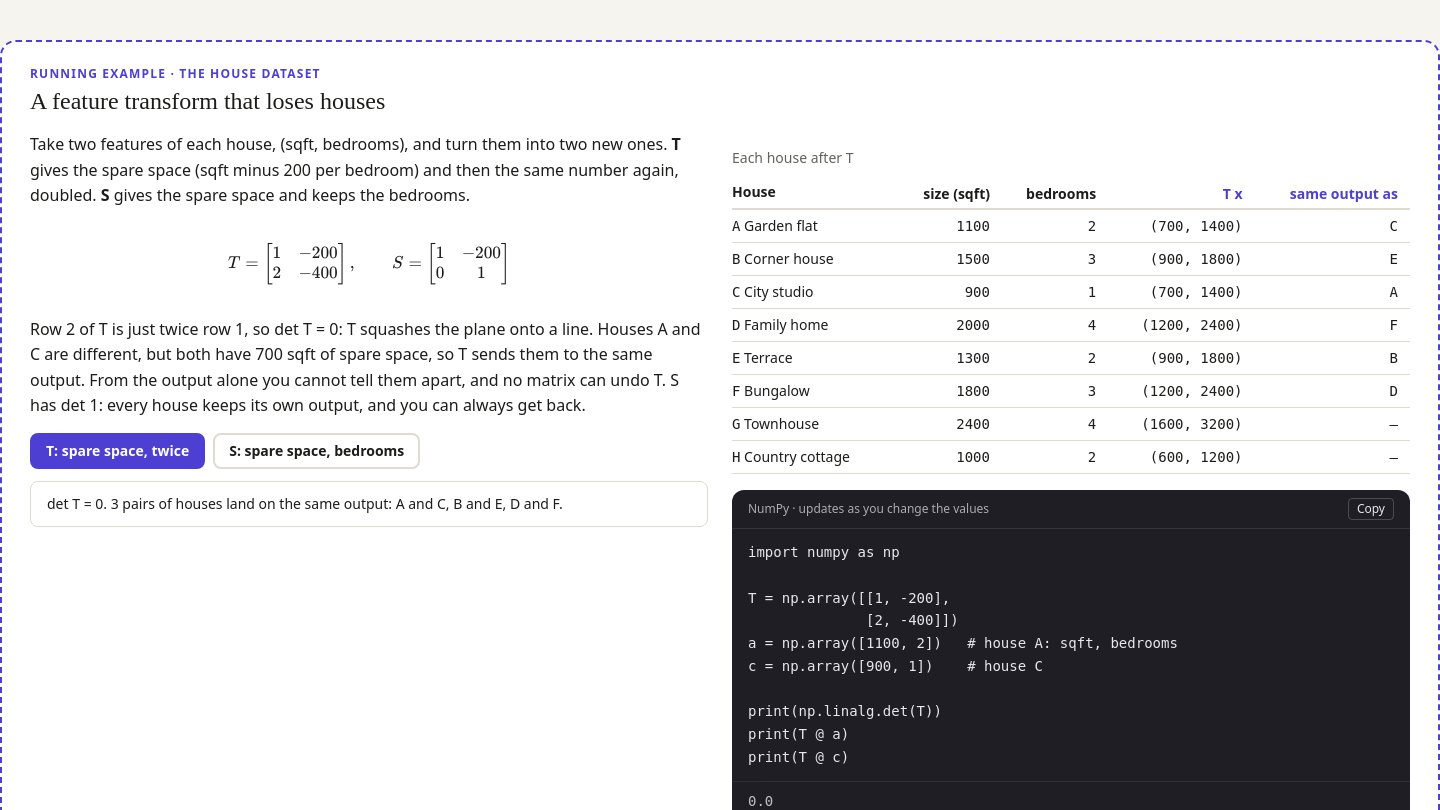
Scenario: running example: a det-0 feature transform › the buttons switch the transform, table and snippet
Check: the element "A feature transform that loses houses" shows "both have 700 sqft of spare space", box x1=30 y1=318 x2=701 y2=416
Check: the text with test id "house-det" reads "det T = 0. 3 pairs of houses land on the same output: A and C, B and E, D and F.", box x1=47 y1=494 x2=563 y2=513
Click the button "S: spare space, bedrooms".
click(317, 451)  # box x1=213 y1=433 x2=420 y2=469
(page scrolled)
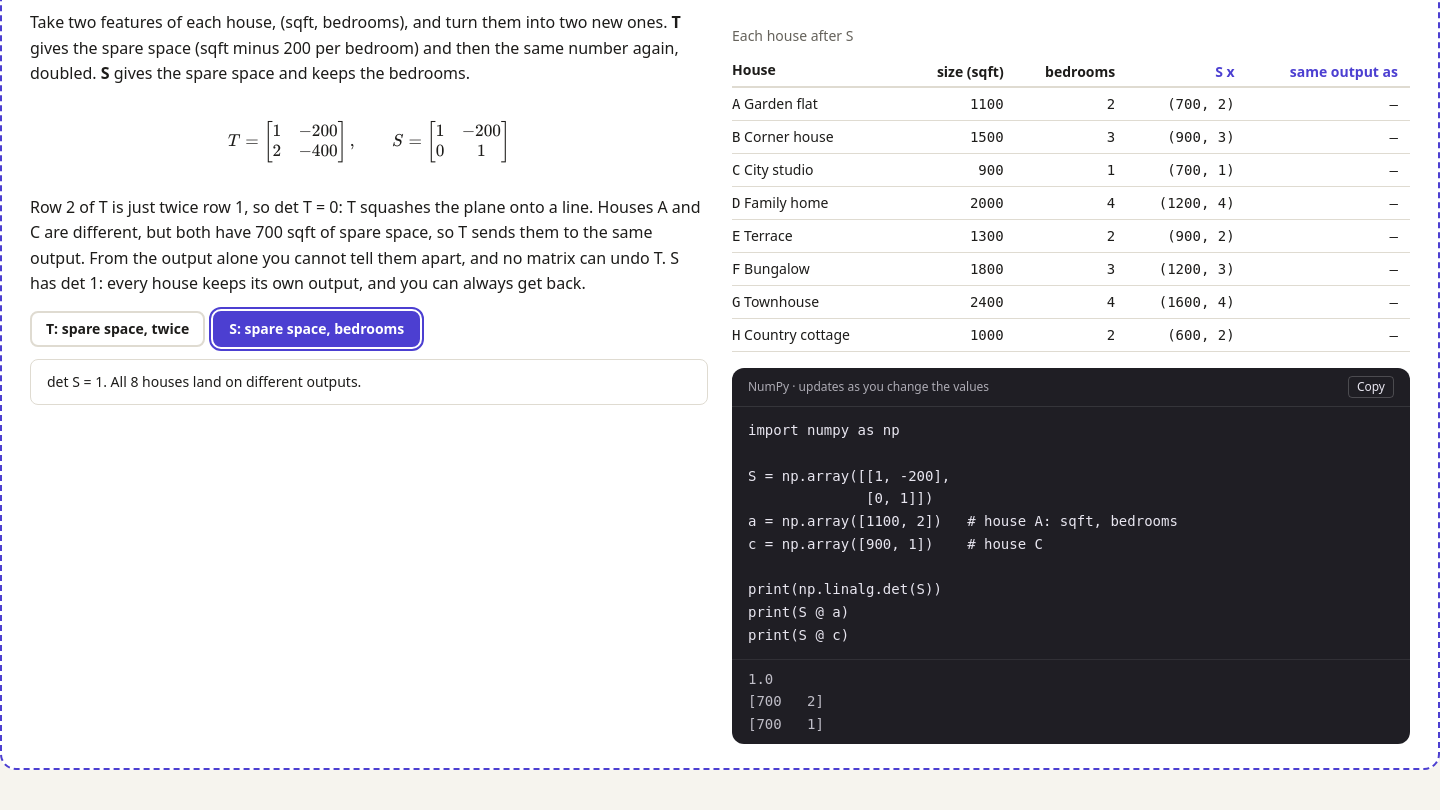
Check: the text with test id "house-det" reads "det S = 1. All 8 houses land on different outputs.", box x1=47 y1=372 x2=361 y2=391
Check: the row "A Garden flat 1100 2 (700, 2) —" is shown, box x1=732 y1=87 x2=1410 y2=120
